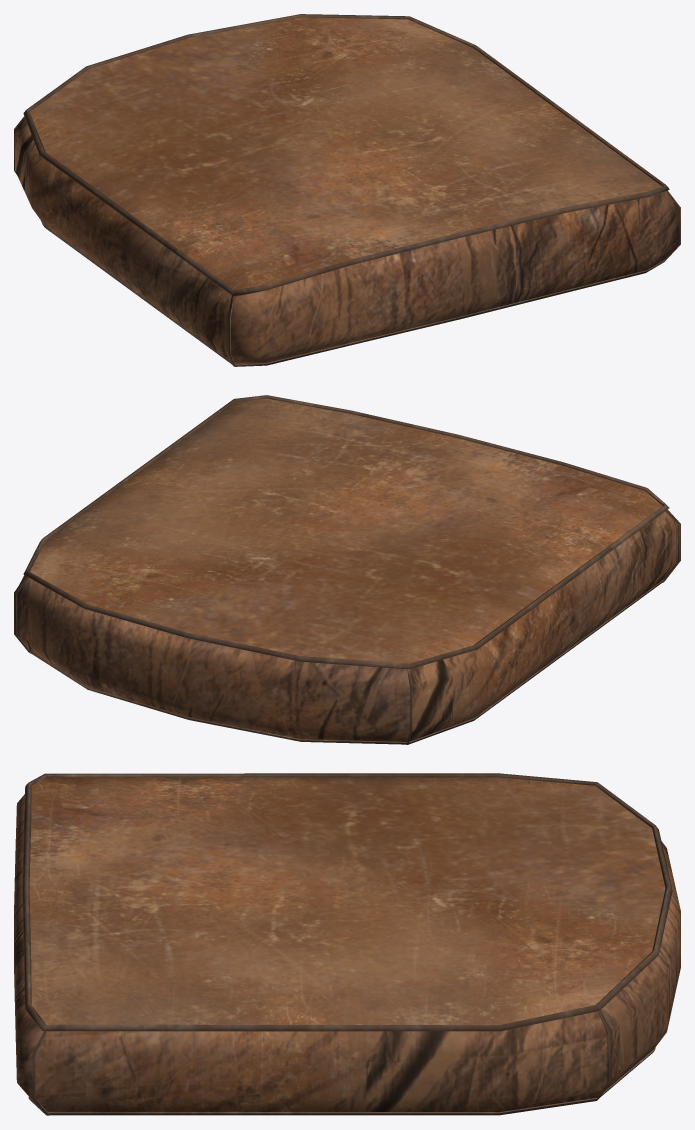
Rendered from SeatBCusionTop.fbx.
3 views of the same model, one above another, from view 1: azimuth 30°, elevation 25°; view 2: azimuth 150°, elevation 25°; view 3: azimuth 270°, elevation 25° (orthographic). The views are drawn at different scales.
Visible parts, largest first — view 1: SeatBCusionTop; view 2: SeatBCusionTop; view 3: SeatBCusionTop.
Part boxes in pixels (box(x1,y1,x2,y2)): SeatBCusionTop: box(14, 14, 680, 366); SeatBCusionTop: box(14, 395, 680, 744); SeatBCusionTop: box(14, 773, 680, 1115).
Size of the model in its own units: 87.77 by 16.4 by 94.5.
